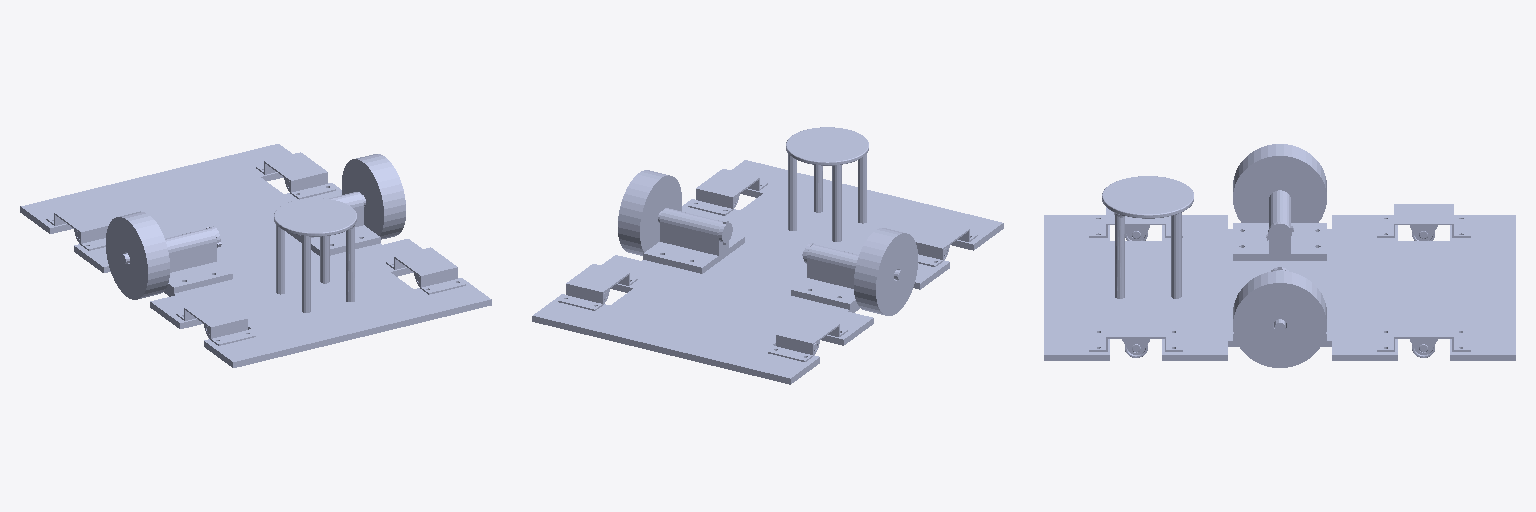
--- Render facts (derived) ---
The picture shows the robot from 3 angles, left to right: view 1: azimuth 30°, elevation 25°; view 2: azimuth 150°, elevation 25°; view 3: azimuth 270°, elevation 25°; orthographic projection.
Model buggy_descripation with 21 links and 20 joints (2 continuous, 18 fixed), rooted at base_link, posed every joint at zero.
Visible links, largest first — view 1: base_link, lidar_mount, wheel_2, wheel_1, wheel_mount_2, caster_mount_2, caster_mount_3, caster_mount_1, caster_mount_4, wheel_mount_1; view 2: base_link, lidar_mount, wheel_2, wheel_mount_1, wheel_1, wheel_mount_2, caster_mount_2, caster_mount_3, caster_mount_4, caster_mount_1; view 3: base_link, wheel_1, wheel_2, lidar_mount, wheel_mount_2, caster_mount_2, caster_mount_3, caster_mount_4, caster_mount_1.
Boxes of the visible links, box(x1,y1,x2,y2) form: base_link: box(20, 144, 491, 367); lidar_mount: box(274, 198, 356, 312); wheel_2: box(106, 211, 169, 299); wheel_1: box(342, 154, 405, 239); wheel_mount_2: box(165, 228, 232, 293); caster_mount_2: box(386, 247, 465, 294); caster_mount_3: box(256, 152, 335, 199); caster_mount_1: box(176, 299, 255, 345); caster_mount_4: box(46, 203, 111, 250); wheel_mount_1: box(287, 192, 380, 255); base_link: box(532, 160, 1003, 384); lidar_mount: box(786, 127, 868, 241); wheel_2: box(854, 228, 917, 315); wheel_mount_1: box(643, 208, 744, 273); wheel_1: box(618, 170, 681, 255); wheel_mount_2: box(791, 244, 858, 309); caster_mount_2: box(688, 169, 767, 215); caster_mount_3: box(558, 264, 637, 310); caster_mount_4: box(768, 315, 847, 361); caster_mount_1: box(912, 220, 977, 266); base_link: box(1044, 215, 1515, 360); wheel_1: box(1233, 271, 1326, 367); wheel_2: box(1233, 144, 1326, 222); lidar_mount: box(1102, 176, 1193, 298); wheel_mount_2: box(1233, 190, 1326, 260); caster_mount_2: box(1089, 317, 1182, 351); caster_mount_3: box(1377, 317, 1470, 351); caster_mount_4: box(1377, 204, 1470, 237); caster_mount_1: box(1089, 207, 1182, 237).
Bounding box of the posed robot: 0.36 × 0.5 × 0.1212 m (x, y, z).
Meshes: 21 distinct files referenced, 20 mesh visuals loaded (20 binary STL); not drawn: 1 (reference not matched to a file when rendering).

URDF robot description (buggy_descripation):
<?xml version="1.0" encoding="utf-8"?>
<!-- This URDF was automatically created by SolidWorks to URDF Exporter! Originally created by Stephen Brawner ([email redacted]) 
     Commit Version: 1.6.0-4-g7f85cfe  Build Version: 1.6.7995.38578
     For more information, please see http://wiki.ros.org/sw_urdf_exporter -->
<robot
  name="buggy_descripation">

  <link
    name="base_link">
    <inertial>
      <origin
        xyz="0.136936792322719 0.584702490472277 0.0119308441150687"
        rpy="0 0 0" />
      <mass
        value="1.21744389438579" />
      <inertia
        ixx="0.0263055228102427"
        ixy="-4.74960988562669E-18"
        ixz="1.78511750667704E-23"
        iyy="0.0103343218353292"
        iyz="1.59730077206781E-18"
        izz="0.0366268585773651" />
    </inertial>
    <visual>
      <origin
        xyz="0 0 0"
        rpy="0 0 0" />
      <geometry>
        <mesh
          filename="package://buggy_descripation/meshes/base_link.STL" />
      </geometry>
      <material
        name="">
        <color
          rgba="0.792156862745098 0.819607843137255 0.933333333333333 1" />
      </material>
    </visual>
    <collision>
      <origin
        xyz="0 0 0"
        rpy="0 0 0" />
      <geometry>
        <mesh
          filename="package://buggy_descripation/meshes/base_link.STL" />
      </geometry>
    </collision>
  </link>
  <link
    name="wheel_mount_1">
    <inertial>
      <origin
        xyz="-0.000311505899562636 0.00907541882425502 0.000108954617667245"
        rpy="0 0 0" />
      <mass
        value="0.116973628059289" />
      <inertia
        ixx="8.00274171721299E-05"
        ixy="2.58509437772729E-20"
        ixz="-2.88996226510714E-20"
        iyy="0.000117236984799871"
        iyz="1.34419452579816E-21"
        izz="7.22553292303753E-05" />
    </inertial>
    <visual>
      <origin
        xyz="0 0 0"
        rpy="0 0 0" />
      <geometry>
        <mesh
          filename="package://buggy_descripation/meshes/wheel_mount_1.STL" />
      </geometry>
      <material
        name="">
        <color
          rgba="0.792156862745098 0.819607843137255 0.933333333333333 1" />
      </material>
    </visual>
    <collision>
      <origin
        xyz="0 0 0"
        rpy="0 0 0" />
      <geometry>
        <mesh
          filename="package://buggy_descripation/meshes/wheel_mount_1.STL" />
      </geometry>
    </collision>
  </link>
  <joint
    name="wheel_mount_1_joint"
    type="fixed">
    <origin
      xyz="0.236827837705051 0.584724982332815 0.0199134687138035"
      rpy="1.5707963267949 0 1.5707963267949" />
    <parent
      link="base_link" />
    <child
      link="wheel_mount_1" />
    <axis
      xyz="0 0 0" />
  </joint>
  <link
    name="shaft_1">
    <inertial>
      <origin
        xyz="-0.000311505899562636 1.73754012652641E-05 0.00823181733965081"
        rpy="0 0 0" />
      <mass
        value="0.0215627079100336" />
      <inertia
        ixx="2.86205172556415E-05"
        ixy="1.08547260558386E-23"
        ixz="4.72874992251217E-21"
        iyy="2.85964483774262E-05"
        iyz="-2.33474197027878E-23"
        izz="7.10078417160629E-07" />
    </inertial>
    <visual>
      <origin
        xyz="0 0 0"
        rpy="0 0 0" />
      <geometry>
        <mesh
          filename="package://buggy_descripation/meshes/shaft_1.STL" />
      </geometry>
      <material
        name="">
        <color
          rgba="0.792156862745098 0.819607843137255 0.933333333333333 1" />
      </material>
    </visual>
    <collision>
      <origin
        xyz="0 0 0"
        rpy="0 0 0" />
      <geometry>
        <mesh
          filename="package://buggy_descripation/meshes/shaft_1.STL" />
      </geometry>
    </collision>
  </link>
  <joint
    name="shaft_1_joint"
    type="fixed">
    <origin
      xyz="0 0.03 0"
      rpy="0 0 0" />
    <parent
      link="wheel_mount_1" />
    <child
      link="shaft_1" />
    <axis
      xyz="0 0 0" />
  </joint>
  <link
    name="wheel_1">
    <inertial>
      <origin
        xyz="-0.000311505899562636 1.73754012652363E-05 0.0151089546176671"
        rpy="0 0 0" />
      <mass
        value="0.230318011416302" />
      <inertia
        ixx="0.000164461455026953"
        ixy="3.41960535803767E-36"
        ixz="-1.17172453763679E-20"
        iyy="0.000164461455026953"
        iyz="-8.75391666279245E-37"
        izz="0.00029437520834146" />
    </inertial>
    <visual>
      <origin
        xyz="0 0 0"
        rpy="0 0 0" />
      <geometry>
        <mesh
          filename="package://buggy_descripation/meshes/wheel_1.STL" />
      </geometry>
      <material
        name="">
        <color
          rgba="0.792156862745098 0.819607843137255 0.933333333333333 1" />
      </material>
    </visual>
    <collision>
      <origin
        xyz="0 0 0"
        rpy="0 0 0" />
      <geometry>
        <mesh
          filename="package://buggy_descripation/meshes/wheel_1.STL" />
      </geometry>
    </collision>
  </link>
  <joint
    name="wheel_1_joint"
    type="continuous">
    <origin
      xyz="0 0 0.045"
      rpy="0 0 0" />
    <parent
      link="shaft_1" />
    <child
      link="wheel_1" />
    <axis
      xyz="0 0 1" />
  </joint>
  <link
    name="caster_mount_1">
    <inertial>
      <origin
        xyz="5.55111512312578E-17 0.00290933863652861 -8.67361737988404E-18"
        rpy="0 0 0" />
      <mass
        value="0.0147090264035528" />
      <inertia
        ixx="3.33808829900102E-06"
        ixy="3.04618885109595E-21"
        ixz="1.05993884558895E-20"
        iyy="1.37782026637017E-05"
        iyz="-5.27075874710973E-22"
        izz="1.16585927397857E-05" />
    </inertial>
    <visual>
      <origin
        xyz="0 0 0"
        rpy="0 0 0" />
      <geometry>
        <mesh
          filename="package://buggy_descripation/meshes/caster_mount_1.STL" />
      </geometry>
      <material
        name="">
        <color
          rgba="0.792156862745098 0.819607843137255 0.933333333333333 1" />
      </material>
    </visual>
    <collision>
      <origin
        xyz="0 0 0"
        rpy="0 0 0" />
      <geometry>
        <mesh
          filename="package://buggy_descripation/meshes/caster_mount_1.STL" />
      </geometry>
    </collision>
  </link>
  <joint
    name="caster_mount_1_joint"
    type="fixed">
    <origin
      xyz="-0.00556320767728138 0.431913476433253 0.0234308441150687"
      rpy="1.5707963267949 0 1.5707963267949" />
    <parent
      link="base_link" />
    <child
      link="caster_mount_1" />
    <axis
      xyz="0 0 0" />
  </joint>
  <link
    name="caster_fixture_1">
    <inertial>
      <origin
        xyz="-7.12301839733698E-08 0.00616635217076654 1.73472347597681E-18"
        rpy="0 0 0" />
      <mass
        value="0.00415872768644128" />
      <inertia
        ixx="4.30437009807996E-07"
        ixy="-1.54297935970669E-12"
        ixz="9.49560746889793E-23"
        iyy="4.17582939592616E-07"
        iyz="6.75201979700994E-23"
        izz="4.05173035674847E-07" />
    </inertial>
    <visual>
      <origin
        xyz="0 0 0"
        rpy="0 0 0" />
      <geometry>
        <mesh
          filename="package://buggy_descripation/meshes/caster_fixture_1.STL" />
      </geometry>
      <material
        name="">
        <color
          rgba="0.792156862745098 0.819607843137255 0.933333333333333 1" />
      </material>
    </visual>
    <collision>
      <origin
        xyz="0 0 0"
        rpy="0 0 0" />
      <geometry>
        <mesh
          filename="package://buggy_descripation/meshes/caster_fixture_1.STL" />
      </geometry>
    </collision>
  </link>
  <joint
    name="caster_fixture_1_joint"
    type="fixed">
    <origin
      xyz="0 -0.011 0"
      rpy="0 0 0" />
    <parent
      link="caster_mount_1" />
    <child
      link="caster_fixture_1" />
    <axis
      xyz="0 0 0" />
  </joint>
  <link
    name="s_caster_1">
    <inertial>
      <origin
        xyz="0 -1.73472347597681E-18 -1.38777878078145E-17"
        rpy="0 0 0" />
      <mass
        value="0.00544413332382602" />
      <inertia
        ixx="3.38782826842286E-07"
        ixy="2.21364468932901E-39"
        ixz="2.35740419240729E-22"
        iyy="3.38782826842286E-07"
        iyz="-2.93862930614957E-39"
        izz="5.01644674433888E-07" />
    </inertial>
    <visual>
      <origin
        xyz="0 0 0"
        rpy="0 0 0" />
      <geometry>
        <mesh
          filename="package://buggy_descripation/meshes/s_caster_1.STL" />
      </geometry>
      <material
        name="">
        <color
          rgba="0.792156862745098 0.819607843137255 0.933333333333333 1" />
      </material>
    </visual>
    <collision>
      <origin
        xyz="0 0 0"
        rpy="0 0 0" />
      <geometry>
        <mesh
          filename="package://buggy_descripation/meshes/s_caster_1.STL" />
      </geometry>
    </collision>
  </link>
  <joint
    name="s_caster_1_joint"
    type="fixed">
    <origin
      xyz="0 0 0"
      rpy="0 0 0" />
    <parent
      link="caster_fixture_1" />
    <child
      link="s_caster_1" />
    <axis
      xyz="0 0 0" />
  </joint>
  <link
    name="caster_mount_2">
    <inertial>
      <origin
        xyz="5.55111512312578E-17 0.00290933863652861 0"
        rpy="0 0 0" />
      <mass
        value="0.0147090264035528" />
      <inertia
        ixx="3.33808829900103E-06"
        ixy="2.2874786250927E-21"
        ixz="-2.49963641355868E-20"
        iyy="1.37782026637017E-05"
        iyz="2.64510165118078E-22"
        izz="1.16585927397856E-05" />
    </inertial>
    <visual>
      <origin
        xyz="0 0 0"
        rpy="0 0 0" />
      <geometry>
        <mesh
          filename="package://buggy_descripation/meshes/caster_mount_2.STL" />
      </geometry>
      <material
        name="">
        <color
          rgba="0.792156862745098 0.819607843137255 0.933333333333333 1" />
      </material>
    </visual>
    <collision>
      <origin
        xyz="0 0 0"
        rpy="0 0 0" />
      <geometry>
        <mesh
          filename="package://buggy_descripation/meshes/caster_mount_2.STL" />
      </geometry>
    </collision>
  </link>
  <joint
    name="caster_mount_2_joint"
    type="fixed">
    <origin
      xyz="0.279436792322718 0.431913476433253 0.0234308441150687"
      rpy="1.5707963267949 0 1.5707963267949" />
    <parent
      link="base_link" />
    <child
      link="caster_mount_2" />
    <axis
      xyz="0 0 0" />
  </joint>
  <link
    name="caster_fixture_2">
    <inertial>
      <origin
        xyz="-7.12301839733698E-08 0.00616635217076654 0"
        rpy="0 0 0" />
      <mass
        value="0.00415872768644127" />
      <inertia
        ixx="4.30437009807995E-07"
        ixy="-1.54297936001376E-12"
        ixz="-1.75223490568748E-22"
        iyy="4.17582939592615E-07"
        iyz="-2.49743369533195E-22"
        izz="4.05173035674846E-07" />
    </inertial>
    <visual>
      <origin
        xyz="0 0 0"
        rpy="0 0 0" />
      <geometry>
        <mesh
          filename="package://buggy_descripation/meshes/caster_fixture_2.STL" />
      </geometry>
      <material
        name="">
        <color
          rgba="0.792156862745098 0.819607843137255 0.933333333333333 1" />
      </material>
    </visual>
    <collision>
      <origin
        xyz="0 0 0"
        rpy="0 0 0" />
      <geometry>
        <mesh
          filename="package://buggy_descripation/meshes/caster_fixture_2.STL" />
      </geometry>
    </collision>
  </link>
  <joint
    name="caster_fixture_2_joint"
    type="fixed">
    <origin
      xyz="0 -0.011 0"
      rpy="0 0 0" />
    <parent
      link="caster_mount_2" />
    <child
      link="caster_fixture_2" />
    <axis
      xyz="0 0 0" />
  </joint>
  <link
    name="s_wheel_2">
    <inertial>
      <origin
        xyz="0 -1.73472347597681E-18 5.55111512312578E-17"
        rpy="0 0 0" />
      <mass
        value="0.00544413332382603" />
      <inertia
        ixx="3.38782826842286E-07"
        ixy="1.21113138227373E-38"
        ixz="-6.75554850526471E-22"
        iyy="3.38782826842286E-07"
        iyz="-8.25084535794453E-39"
        izz="5.01644674433889E-07" />
    </inertial>
    <visual>
      <origin
        xyz="0 0 0"
        rpy="0 0 0" />
      <geometry>
        <mesh
          filename="package://buggy_descripation/meshes/s_wheel_2.STL" />
      </geometry>
      <material
        name="">
        <color
          rgba="0.792156862745098 0.819607843137255 0.933333333333333 1" />
      </material>
    </visual>
    <collision>
      <origin
        xyz="0 0 0"
        rpy="0 0 0" />
      <geometry>
        <mesh
          filename="package://buggy_descripation/meshes/s_wheel_2.STL" />
      </geometry>
    </collision>
  </link>
  <joint
    name="s_wheel_2_joint"
    type="fixed">
    <origin
      xyz="0 0 0"
      rpy="0 0 0" />
    <parent
      link="caster_fixture_2" />
    <child
      link="s_wheel_2" />
    <axis
      xyz="0 0 0" />
  </joint>
  <link
    name="caster_mount_3">
    <inertial>
      <origin
        xyz="-1.11022302462516E-16 -0.00290933863652861 -1.66533453693773E-16"
        rpy="0 0 0" />
      <mass
        value="0.0147090264035529" />
      <inertia
        ixx="3.33808829900103E-06"
        ixy="3.00372727566297E-21"
        ixz="-4.94692780397924E-21"
        iyy="1.37782026637017E-05"
        iyz="-7.12138623990839E-23"
        izz="1.16585927397857E-05" />
    </inertial>
    <visual>
      <origin
        xyz="0 0 0"
        rpy="0 0 0" />
      <geometry>
        <mesh
          filename="package://buggy_descripation/meshes/caster_mount_3.STL" />
      </geometry>
      <material
        name="">
        <color
          rgba="0.792156862745098 0.819607843137255 0.933333333333333 1" />
      </material>
    </visual>
    <collision>
      <origin
        xyz="0 0 0"
        rpy="0 0 0" />
      <geometry>
        <mesh
          filename="package://buggy_descripation/meshes/caster_mount_3.STL" />
      </geometry>
    </collision>
  </link>
  <joint
    name="caster_mount_3"
    type="fixed">
    <origin
      xyz="0.279436792322719 0.736913476433252 0.0234308441150687"
      rpy="-1.5707963267949 0 -1.5707963267949" />
    <parent
      link="base_link" />
    <child
      link="caster_mount_3" />
    <axis
      xyz="0 0 0" />
  </joint>
  <link
    name="caster_fixture_3">
    <inertial>
      <origin
        xyz="7.12301839733698E-08 -0.00516635217076653 -1.66533453693773E-16"
        rpy="0 0 0" />
      <mass
        value="0.00415872768644128" />
      <inertia
        ixx="4.30437009807997E-07"
        ixy="-1.54297935973795E-12"
        ixz="8.50656148732795E-23"
        iyy="4.17582939592616E-07"
        iyz="-1.94254123458878E-22"
        izz="4.05173035674847E-07" />
    </inertial>
    <visual>
      <origin
        xyz="0 0 0"
        rpy="0 0 0" />
      <geometry>
        <mesh
          filename="package://buggy_descripation/meshes/caster_fixture_3.STL" />
      </geometry>
      <material
        name="">
        <color
          rgba="0.792156862745098 0.819607843137255 0.933333333333333 1" />
      </material>
    </visual>
    <collision>
      <origin
        xyz="0 0 0"
        rpy="0 0 0" />
      <geometry>
        <mesh
          filename="package://buggy_descripation/meshes/caster_fixture_3.STL" />
      </geometry>
    </collision>
  </link>
  <joint
    name="caster_fixture_3_joint"
    type="fixed">
    <origin
      xyz="0 0.01 0"
      rpy="0 0 0" />
    <parent
      link="caster_mount_3" />
    <child
      link="caster_fixture_3" />
    <axis
      xyz="0 0 0" />
  </joint>
  <link
    name="s_wheel_3">
    <inertial>
      <origin
        xyz="-1.11022302462516E-16 3.46944695195361E-18 -2.22044604925031E-16"
        rpy="0 0 0" />
      <mass
        value="0.00544413332382601" />
      <inertia
        ixx="3.38782826842285E-07"
        ixy="2.21364468932902E-39"
        ixz="-8.27148061822121E-23"
        iyy="3.38782826842285E-07"
        iyz="2.93862930614957E-39"
        izz="5.01644674433887E-07" />
    </inertial>
    <visual>
      <origin
        xyz="0 0 0"
        rpy="0 0 0" />
      <geometry>
        <mesh
          filename="package://buggy_descripation/meshes/s_wheel_3.STL" />
      </geometry>
      <material
        name="">
        <color
          rgba="0.792156862745098 0.819607843137255 0.933333333333333 1" />
      </material>
    </visual>
    <collision>
      <origin
        xyz="0 0 0"
        rpy="0 0 0" />
      <geometry>
        <mesh
          filename="package://buggy_descripation/meshes/s_wheel_3.STL" />
      </geometry>
    </collision>
  </link>
  <joint
    name="s_wheel_3"
    type="fixed">
    <origin
      xyz="0 0.00100000000000001 0"
      rpy="0 0 0" />
    <parent
      link="caster_fixture_3" />
    <child
      link="s_wheel_3" />
    <axis
      xyz="0 0 0" />
  </joint>
  <link
    name="caster_mount_4">
    <inertial>
      <origin
        xyz="0 0.00290933863652861 -8.67361737988404E-19"
        rpy="0 0 0" />
      <mass
        value="0.0147090264035528" />
      <inertia
        ixx="3.33808829900102E-06"
        ixy="3.03678508214026E-21"
        ixz="1.74273978789006E-21"
        iyy="1.37782026637017E-05"
        iyz="2.22283605025357E-22"
        izz="1.16585927397857E-05" />
    </inertial>
    <visual>
      <origin
        xyz="0 0 0"
        rpy="0 0 0" />
      <geometry>
        <mesh
          filename="package://buggy_descripation/meshes/caster_mount_4.STL" />
      </geometry>
      <material
        name="">
        <color
          rgba="0.792156862745098 0.819607843137255 0.933333333333333 1" />
      </material>
    </visual>
    <collision>
      <origin
        xyz="0 0 0"
        rpy="0 0 0" />
      <geometry>
        <mesh
          filename="package://buggy_descripation/meshes/caster_mount_4.STL" />
      </geometry>
    </collision>
  </link>
  <joint
    name="caster_mount_4_joint"
    type="fixed">
    <origin
      xyz="-0.0055632076772813 0.736913476433252 0.0234308441150687"
      rpy="1.5707963267949 0 1.5707963267949" />
    <parent
      link="base_link" />
    <child
      link="caster_mount_4" />
    <axis
      xyz="0 0 0" />
  </joint>
  <link
    name="caster_fixture_4">
    <inertial>
      <origin
        xyz="-7.12301840843921E-08 0.00616635217076653 -8.67361737988404E-19"
        rpy="0 0 0" />
      <mass
        value="0.00415872768644128" />
      <inertia
        ixx="4.30437009807996E-07"
        ixy="-1.54297935980373E-12"
        ixz="-3.59722340639264E-23"
        iyy="4.17582939592616E-07"
        iyz="-3.37446893511555E-23"
        izz="4.05173035674847E-07" />
    </inertial>
    <visual>
      <origin
        xyz="0 0 0"
        rpy="0 0 0" />
      <geometry>
        <mesh
          filename="package://buggy_descripation/meshes/caster_fixture_4.STL" />
      </geometry>
      <material
        name="">
        <color
          rgba="0.792156862745098 0.819607843137255 0.933333333333333 1" />
      </material>
    </visual>
    <collision>
      <origin
        xyz="0 0 0"
        rpy="0 0 0" />
      <geometry>
        <mesh
          filename="package://buggy_descripation/meshes/caster_fixture_4.STL" />
      </geometry>
    </collision>
  </link>
  <joint
    name="caster_fixture_4_joint"
    type="fixed">
    <origin
      xyz="0 -0.011 0"
      rpy="0 0 0" />
    <parent
      link="caster_mount_4" />
    <child
      link="caster_fixture_4" />
    <axis
      xyz="0 0 0" />
  </joint>
  <link
    name="s_wheel_4">
    <inertial>
      <origin
        xyz="0 -5.20417042793042E-18 -1.47451495458029E-17"
        rpy="0 0 0" />
      <mass
        value="0.00544413332382601" />
      <inertia
        ixx="3.38782826842284E-07"
        ixy="2.21364468932901E-39"
        ixz="1.52289210013095E-23"
        iyy="3.38782826842285E-07"
        iyz="-2.93862930614957E-39"
        izz="5.01644674433887E-07" />
    </inertial>
    <visual>
      <origin
        xyz="0 0 0"
        rpy="0 0 0" />
      <geometry>
        <mesh
          filename="package://buggy_descripation/meshes/s_wheel_4.STL" />
      </geometry>
      <material
        name="">
        <color
          rgba="0.792156862745098 0.819607843137255 0.933333333333333 1" />
      </material>
    </visual>
    <collision>
      <origin
        xyz="0 0 0"
        rpy="0 0 0" />
      <geometry>
        <mesh
          filename="package://buggy_descripation/meshes/s_wheel_4.STL" />
      </geometry>
    </collision>
  </link>
  <joint
    name="s_wheel_4_joint"
    type="fixed">
    <origin
      xyz="0 0 0"
      rpy="0 0 0" />
    <parent
      link="caster_fixture_4" />
    <child
      link="s_wheel_4" />
    <axis
      xyz="0 0 0" />
  </joint>
  <link
    name="wheel_mount_2">
    <inertial>
      <origin
        xyz="0 0.0130580434229897 0"
        rpy="0 0 0" />
      <mass
        value="0.116973628059289" />
      <inertia
        ixx="8.00274171721299E-05"
        ixy="2.71810764533712E-20"
        ixz="-2.97009538694821E-20"
        iyy="0.000117236984799871"
        iyz="7.68830510492168E-21"
        izz="7.22553292303753E-05" />
    </inertial>
    <visual>
      <origin
        xyz="0 0 0"
        rpy="0 0 0" />
      <geometry>
        <mesh
          filename="package://buggy_descripation/meshes/wheel_mount_2.STL" />
      </geometry>
      <material
        name="">
        <color
          rgba="0.792156862745098 0.819607843137255 0.933333333333333 1" />
      </material>
    </visual>
    <collision>
      <origin
        xyz="0 0 0"
        rpy="0 0 0" />
      <geometry>
        <mesh
          filename="package://buggy_descripation/meshes/wheel_mount_2.STL" />
      </geometry>
    </collision>
  </link>
  <joint
    name="wheel_mount_2_joint"
    type="fixed">
    <origin
      xyz="0.0369367923227186 0.584413476433253 0.015594437807013"
      rpy="1.5707963267949 0 1.5707963267949" />
    <parent
      link="base_link" />
    <child
      link="wheel_mount_2" />
    <axis
      xyz="0 0 0" />
    <limit
      lower="0"
      upper="0"
      effort="0"
      velocity="0" />
  </joint>
  <link
    name="shaft_2">
    <inertial>
      <origin
        xyz="5.55111512312578E-17 -2.22044604925031E-16 0.00812286272198354"
        rpy="0 0 0" />
      <mass
        value="0.0215627079100336" />
      <inertia
        ixx="2.86205172556415E-05"
        ixy="0"
        ixz="-1.67452959487115E-22"
        iyy="2.85964483774262E-05"
        iyz="-3.49467886174526E-21"
        izz="7.1007841716063E-07" />
    </inertial>
    <visual>
      <origin
        xyz="0 0 0"
        rpy="0 0 0" />
      <geometry>
        <mesh
          filename="package://buggy_descripation/meshes/shaft_2.STL" />
      </geometry>
      <material
        name="">
        <color
          rgba="0.792156862745098 0.819607843137255 0.933333333333333 1" />
      </material>
    </visual>
    <collision>
      <origin
        xyz="0 0 0"
        rpy="0 0 0" />
      <geometry>
        <mesh
          filename="package://buggy_descripation/meshes/shaft_2.STL" />
      </geometry>
    </collision>
  </link>
  <joint
    name="shaft_2_joint"
    type="fixed">
    <origin
      xyz="0 0.034 0"
      rpy="3.14159265358979 0 1.92689132353229" />
    <parent
      link="wheel_mount_2" />
    <child
      link="shaft_2" />
    <axis
      xyz="0 0 0" />
  </joint>
  <link
    name="wheel_2">
    <inertial>
      <origin
        xyz="0 6.93889390390723E-18 -0.015"
        rpy="0 0 0" />
      <mass
        value="0.230318011416302" />
      <inertia
        ixx="0.000164461455026953"
        ixy="-1.13888008495933E-39"
        ixz="-1.51053771653851E-20"
        iyy="0.000164461455026953"
        iyz="3.10894231612504E-36"
        izz="0.000294375208341461" />
    </inertial>
    <visual>
      <origin
        xyz="0 0 0"
        rpy="0 0 0" />
      <geometry>
        <mesh
          filename="package://buggy_descripation/meshes/wheel_2.STL" />
      </geometry>
      <material
        name="">
        <color
          rgba="0.792156862745098 0.819607843137255 0.933333333333333 1" />
      </material>
    </visual>
    <collision>
      <origin
        xyz="0 0 0"
        rpy="0 0 0" />
      <geometry>
        <mesh
          filename="package://buggy_descripation/meshes/wheel_2.STL" />
      </geometry>
    </collision>
  </link>
  <joint
    name="wheel_2_joint"
    type="continuous">
    <origin
      xyz="0 0 0.045"
      rpy="3.14159265358979 0 1.92689132353229" />
    <parent
      link="shaft_2" />
    <child
      link="wheel_2" />
    <axis
      xyz="0 0 1" />
  </joint>
  <link
    name="lidar_mount">
    <inertial>
      <origin
        xyz="7.41984232188464E-05 0.0791888905804564 0.140074197922588"
        rpy="0 0 0" />
      <mass
        value="0.0679495676763308" />
      <inertia
        ixx="0.00012150234170699"
        ixy="-9.97496250477046E-08"
        ixz="-1.43847675741952E-07"
        iyy="0.000100174237721814"
        iyz="-9.9749287265195E-08"
        izz="0.000121502343492964" />
    </inertial>
    <visual>
      <origin
        xyz="0 0 0"
        rpy="0 0 0" />
      <geometry>
        <mesh
          filename="package://buggy_descripation/meshes/lidar_mount.STL" />
      </geometry>
      <material
        name="">
        <color
          rgba="0.792156862745098 0.819607843137255 0.933333333333333 1" />
      </material>
    </visual>
    <collision>
      <origin
        xyz="0 0 0"
        rpy="0 0 0" />
      <geometry>
        <mesh
          filename="package://buggy_descripation/meshes/lidar_mount.STL" />
      </geometry>
    </collision>
  </link>
  <joint
    name="lidar_mount_joint"
    type="fixed">
    <origin
      xyz="0.13694 0.58441 0.015931"
      rpy="1.5708 0 0" />
    <parent
      link="base_link" />
    <child
      link="lidar_mount" />
    <axis
      xyz="0 0 0" />
  </joint>
  <link
    name="laser">
    <inertial>
      <origin
        xyz="-1.11022302462516E-16 0.0157959158923206 0.14"
        rpy="0 0 0" />
      <mass
        value="0.0887753797922069" />
      <inertia
        ixx="2.71258824735809E-05"
        ixy="-8.26964416216142E-38"
        ixz="-4.52420345301141E-39"
        iyy="3.92865646363297E-05"
        iyz="1.58873234403123E-21"
        izz="2.71258824735809E-05" />
    </inertial>
    <visual>
      <origin
        xyz="0 0 0"
        rpy="0 0 0" />
      <geometry>
        <mesh
          filename="package://buggy_descripation/meshes/laser.STL" />
      </geometry>
      <material
        name="">
        <color
          rgba="0.792156862745098 0.819607843137255 0.933333333333333 1" />
      </material>
    </visual>
    <collision>
      <origin
        xyz="0 0 0"
        rpy="0 0 0" />
      <geometry>
        <mesh
          filename="package://buggy_descripation/meshes/laser.STL" />
      </geometry>
    </collision>
  </link>
  <joint
    name="lidar_joint"
    type="fixed">
    <origin
      xyz="0 0.105 0"
      rpy="0 0 0" />
    <parent
      link="lidar_mount" />
    <child
      link="laser" />
    <axis
      xyz="0 1 0" />
  </joint>
</robot>
